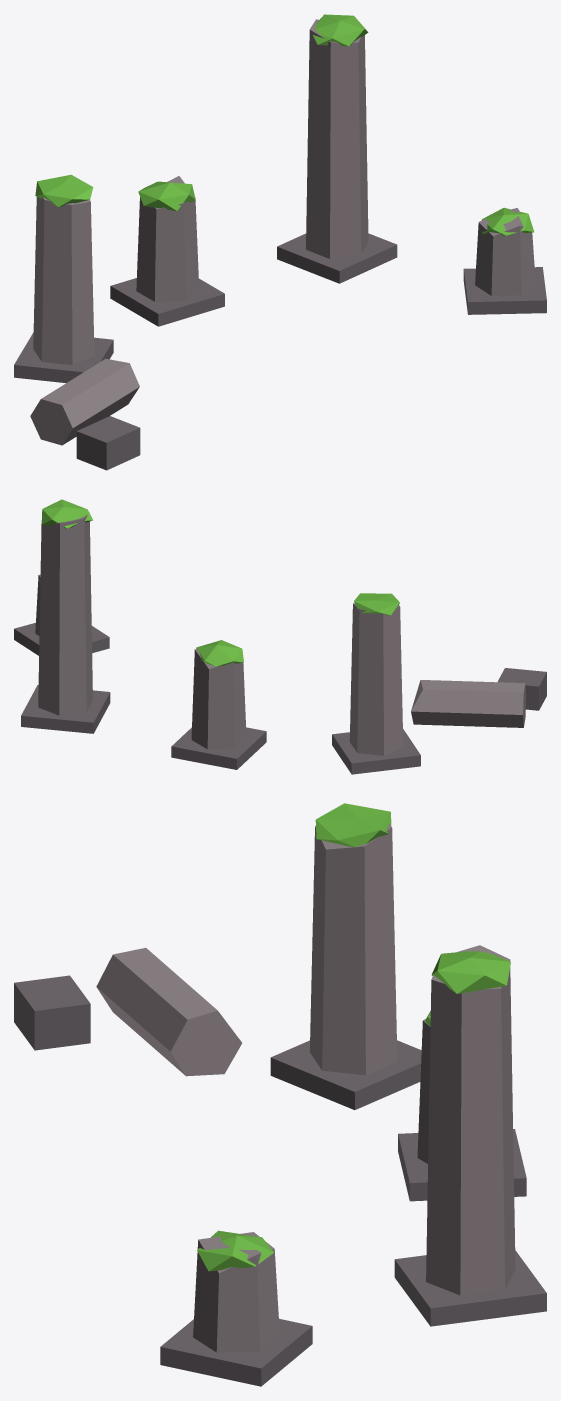
File: pillars.glb
The picture shows the model from 3 angles, top to bottom: view 1: azimuth 30°, elevation 25°; view 2: azimuth 150°, elevation 25°; view 3: azimuth 270°, elevation 25°; orthographic projection. The views are drawn at different scales.
Parts seen in each view (by area): view 1: Pillar_TallBackRight, Pillar_BackLeft, Pillar_BackMid, Pillar_RightShort, FallenColumn, StoneBlock; view 2: Pillar_TallBackRight, Pillar_BackLeft, Pillar_BackMid, FallenColumn, StoneBlock, Pillar_RightShort; view 3: Pillar_TallBackRight, Pillar_BackLeft, Pillar_RightShort, FallenColumn, StoneBlock, Pillar_BackMid.
Boxes of the visible parts, x1=… form: Pillar_TallBackRight: x1=277, y1=14, x2=397, y2=283; Pillar_BackLeft: x1=14, y1=174, x2=113, y2=382; Pillar_BackMid: x1=110, y1=176, x2=224, y2=326; Pillar_RightShort: x1=463, y1=207, x2=546, y2=314; FallenColumn: x1=30, y1=359, x2=139, y2=445; StoneBlock: x1=76, y1=416, x2=140, y2=470; Pillar_TallBackRight: x1=21, y1=499, x2=110, y2=733; Pillar_BackLeft: x1=332, y1=593, x2=420, y2=774; Pillar_BackMid: x1=171, y1=640, x2=266, y2=769; FallenColumn: x1=411, y1=680, x2=526, y2=727; StoneBlock: x1=497, y1=668, x2=546, y2=710; Pillar_RightShort: x1=14, y1=574, x2=109, y2=655; Pillar_TallBackRight: x1=394, y1=945, x2=546, y2=1326; Pillar_BackLeft: x1=270, y1=803, x2=421, y2=1109; Pillar_RightShort: x1=160, y1=1230, x2=312, y2=1386; FallenColumn: x1=96, y1=948, x2=242, y2=1076; StoneBlock: x1=14, y1=975, x2=90, y2=1050; Pillar_BackMid: x1=398, y1=1010, x2=526, y2=1201.
Bounding box in the file's own units: 5.4 × 2.23 × 3.18.
